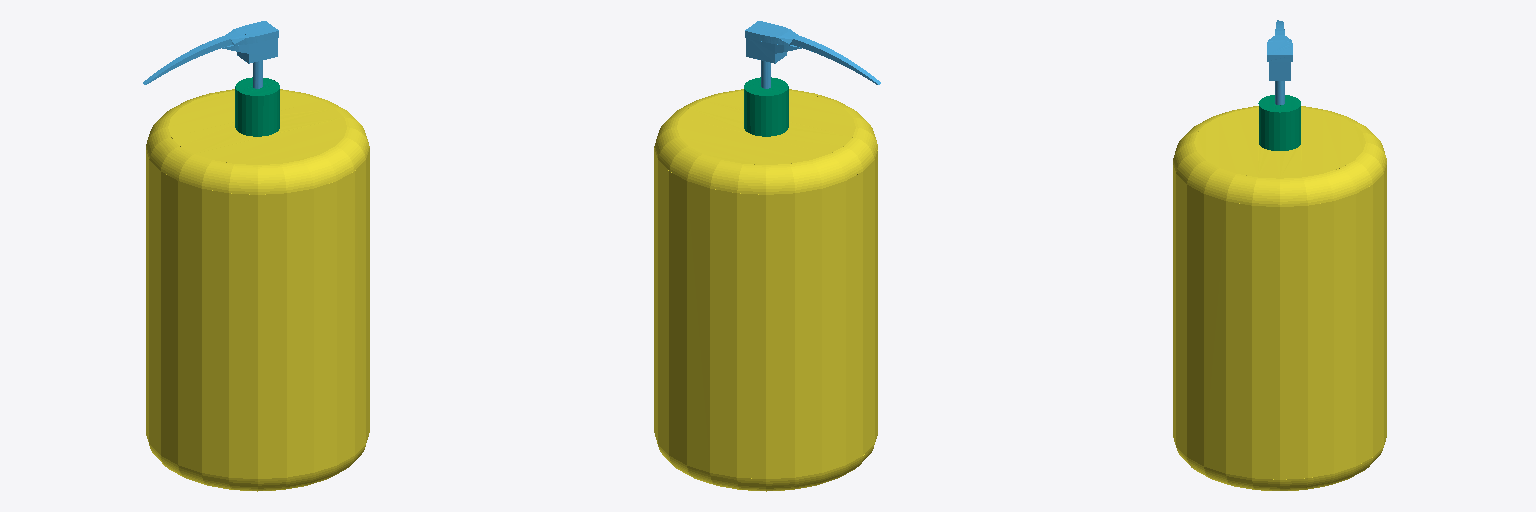
robot.urdf — partnet_d352a7410547373c4cd1f145ee534e3:
<?xml version="1.0" ?>
<robot name="partnet_d352a7410547373c4cd1f145ee534e3">
	<link name="base"/>
	<link name="link_0">
		<visual name="pressing_lid-1">
			<origin xyz="-0.010114 0 0.0017155000000000017"/>
			<geometry>
				<mesh filename="textured_objs/original_8.obj"/>
			</geometry>
		</visual>
		<visual name="pressing_lid-1">
			<origin xyz="-0.010114 0 0.0017155000000000017"/>
			<geometry>
				<mesh filename="textured_objs/original_7.obj"/>
			</geometry>
		</visual>
		<collision>
			<origin xyz="-0.010114 0 0.0017155000000000017"/>
			<geometry>
				<mesh filename="textured_objs/original_8.obj"/>
			</geometry>
		</collision>
		<collision>
			<origin xyz="-0.010114 0 0.0017155000000000017"/>
			<geometry>
				<mesh filename="textured_objs/original_7.obj"/>
			</geometry>
		</collision>
	</link>
	<joint name="joint_0" type="continuous">
		<origin xyz="0.0 0 0.0"/>
		<axis xyz="0 1 0"/>
		<child link="link_0"/>
		<parent link="link_0_helper"/>
	</joint>
	<link name="link_1">
		<visual name="head-3">
			<origin xyz="-0.010113999999999984 0 0.0017153497284326247"/>
			<geometry>
				<mesh filename="textured_objs/original_9.obj"/>
			</geometry>
		</visual>
		<collision>
			<origin xyz="-0.010113999999999984 0 0.0017153497284326247"/>
			<geometry>
				<mesh filename="textured_objs/original_9.obj"/>
			</geometry>
		</collision>
	</link>
	<joint name="joint_1" type="continuous">
		<origin xyz="0.0 0 0.0"/>
		<axis xyz="0 -1 0"/>
		<child link="link_1"/>
		<parent link="link_1_helper"/>
	</joint>
	<link name="link_2">
		<visual name="base_body-4">
			<origin xyz="0 0 0"/>
			<geometry>
				<mesh filename="textured_objs/original_4.obj"/>
			</geometry>
		</visual>
		<visual name="base_body-4">
			<origin xyz="0 0 0"/>
			<geometry>
				<mesh filename="textured_objs/original_3.obj"/>
			</geometry>
		</visual>
		<visual name="base_body-4">
			<origin xyz="0 0 0"/>
			<geometry>
				<mesh filename="textured_objs/original_2.obj"/>
			</geometry>
		</visual>
		<visual name="base_body-4">
			<origin xyz="0 0 0"/>
			<geometry>
				<mesh filename="textured_objs/original_5.obj"/>
			</geometry>
		</visual>
		<visual name="base_body-4">
			<origin xyz="0 0 0"/>
			<geometry>
				<mesh filename="textured_objs/original_6.obj"/>
			</geometry>
		</visual>
		<visual name="base_body-4">
			<origin xyz="0 0 0"/>
			<geometry>
				<mesh filename="textured_objs/original_1.obj"/>
			</geometry>
		</visual>
		<collision>
			<origin xyz="0 0 0"/>
			<geometry>
				<mesh filename="textured_objs/original_4.obj"/>
			</geometry>
		</collision>
		<collision>
			<origin xyz="0 0 0"/>
			<geometry>
				<mesh filename="textured_objs/original_3.obj"/>
			</geometry>
		</collision>
		<collision>
			<origin xyz="0 0 0"/>
			<geometry>
				<mesh filename="textured_objs/original_2.obj"/>
			</geometry>
		</collision>
		<collision>
			<origin xyz="0 0 0"/>
			<geometry>
				<mesh filename="textured_objs/original_5.obj"/>
			</geometry>
		</collision>
		<collision>
			<origin xyz="0 0 0"/>
			<geometry>
				<mesh filename="textured_objs/original_6.obj"/>
			</geometry>
		</collision>
		<collision>
			<origin xyz="0 0 0"/>
			<geometry>
				<mesh filename="textured_objs/original_1.obj"/>
			</geometry>
		</collision>
	</link>
	<joint name="joint_2" type="fixed">
		<origin rpy="1.570796326794897 0 -1.570796326794897" xyz="0 0 0"/>
		<child link="link_2"/>
		<parent link="base"/>
	</joint>
	<link name="link_0_helper">
		<inertial>
			<origin xyz="0 0 0"/>
			<mass value="1e-6"/>
			<inertia ixx="1e-10" ixy="0" ixz="0" iyy="1e-10" iyz="0" izz="1e-10"/>
		</inertial>
	</link>
	<joint name="joint_3" type="prismatic">
		<origin xyz="1.5612511283791264e-17 0 -1.5027156737706937e-07"/>
		<axis xyz="0 -1 0"/>
		<child link="link_0_helper"/>
		<parent link="link_1"/>
		<limit lower="0" upper="0.12"/>
	</joint>
	<link name="link_1_helper">
		<inertial>
			<origin xyz="0 0 0"/>
			<mass value="1e-6"/>
			<inertia ixx="1e-10" ixy="0" ixz="0" iyy="1e-10" iyz="0" izz="1e-10"/>
		</inertial>
	</link>
	<joint name="joint_4" type="prismatic">
		<origin xyz="0.010113999999999984 0 -0.0017153497284326247"/>
		<axis xyz="0 1 0"/>
		<child link="link_1_helper"/>
		<parent link="link_2"/>
		<limit lower="0" upper="0.020000000000000018"/>
	</joint>
</robot>

--- Facts derived from the render (not from the file) ---
3 views of the same robot in one strip: view 1: azimuth 30°, elevation 25°; view 2: azimuth 150°, elevation 25°; view 3: azimuth 270°, elevation 25° (orthographic).
Robot: partnet_d352a7410547373c4cd1f145ee534e3 — 6 links, 5 joints (2 continuous, 2 prismatic, 1 fixed); root link base; default pose: all joints at 0.
Visible links, largest first — view 1: link_2, link_0, link_1; view 2: link_2, link_0, link_1; view 3: link_2, link_1, link_0.
Boxes of the visible links, x1=… form: link_2: x1=146, y1=89, x2=369, y2=491; link_0: x1=143, y1=21, x2=278, y2=88; link_1: x1=235, y1=77, x2=279, y2=136; link_2: x1=654, y1=89, x2=877, y2=491; link_0: x1=745, y1=21, x2=880, y2=88; link_1: x1=744, y1=77, x2=788, y2=136; link_2: x1=1173, y1=106, x2=1386, y2=490; link_1: x1=1258, y1=95, x2=1300, y2=150; link_0: x1=1267, y1=20, x2=1292, y2=104.
Size in the robot's own frame: 0.8767 by 0.8061 by 1.68 metres.
Meshes: 9 distinct files referenced, 9 mesh visuals loaded (9 OBJ).
